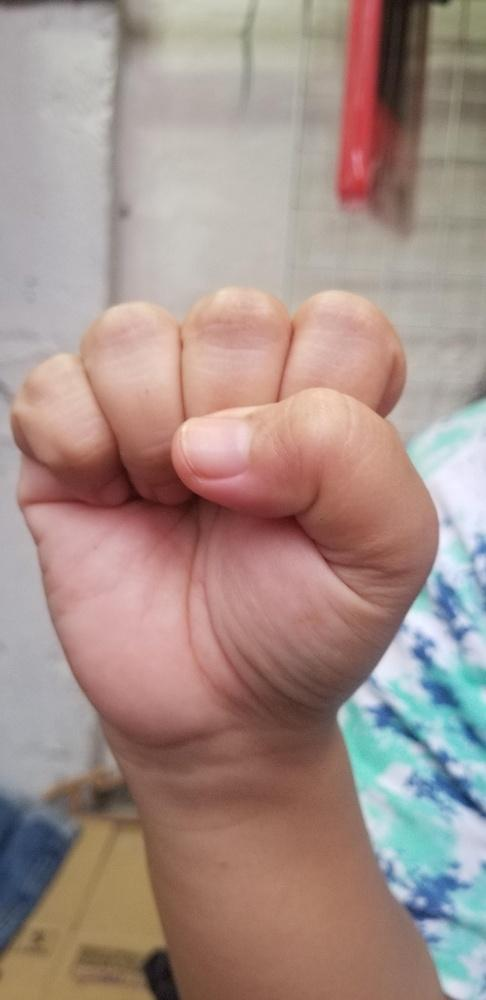s: (8, 283, 442, 743)
